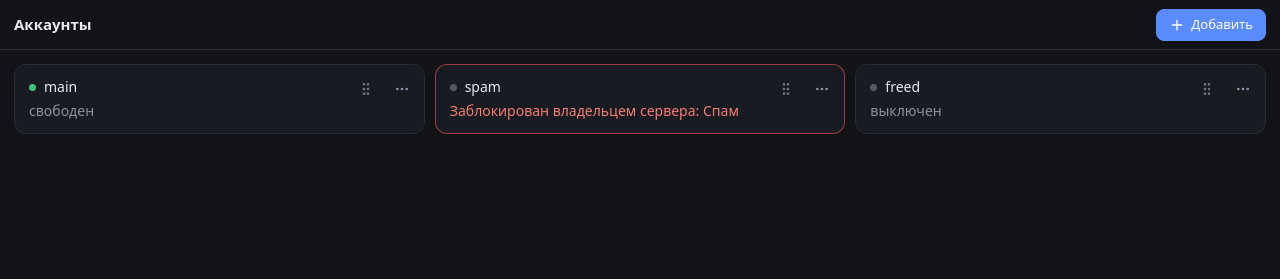
экран аккаунтов › заблокированный аккаунт: причина и нет кнопки «Включить»
Check: the text "Заблокирован владельцем сервера: Спам" is shown, box [450, 101, 752, 121]
Click the button named "Действия" next to "Заблокирован владельцем сервера: Спам".
click(822, 89)  # box [806, 73, 838, 105]
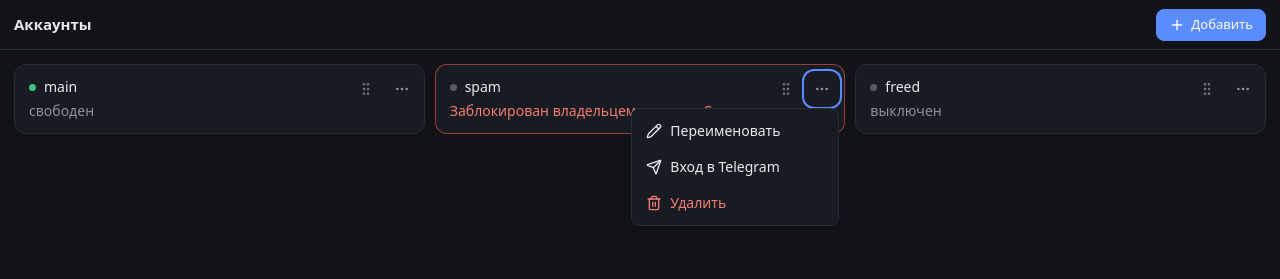
Check: the button "Включить" is not shown
Check: the button "Переименовать" is shown, box [636, 113, 834, 149]
Check: the button "Удалить" is shown, box [636, 185, 834, 221]
Click the button named "Действия" in the row of "выключен".
click(1243, 89)  # box [1227, 73, 1259, 105]
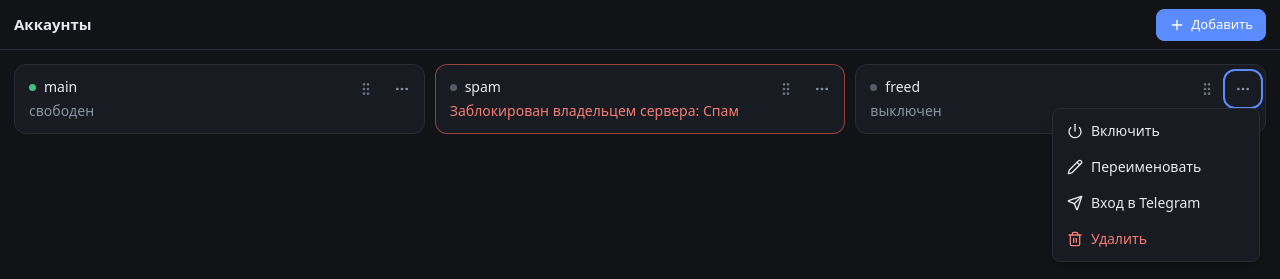
Check: the button "Включить" is shown, box [1057, 113, 1255, 149]
